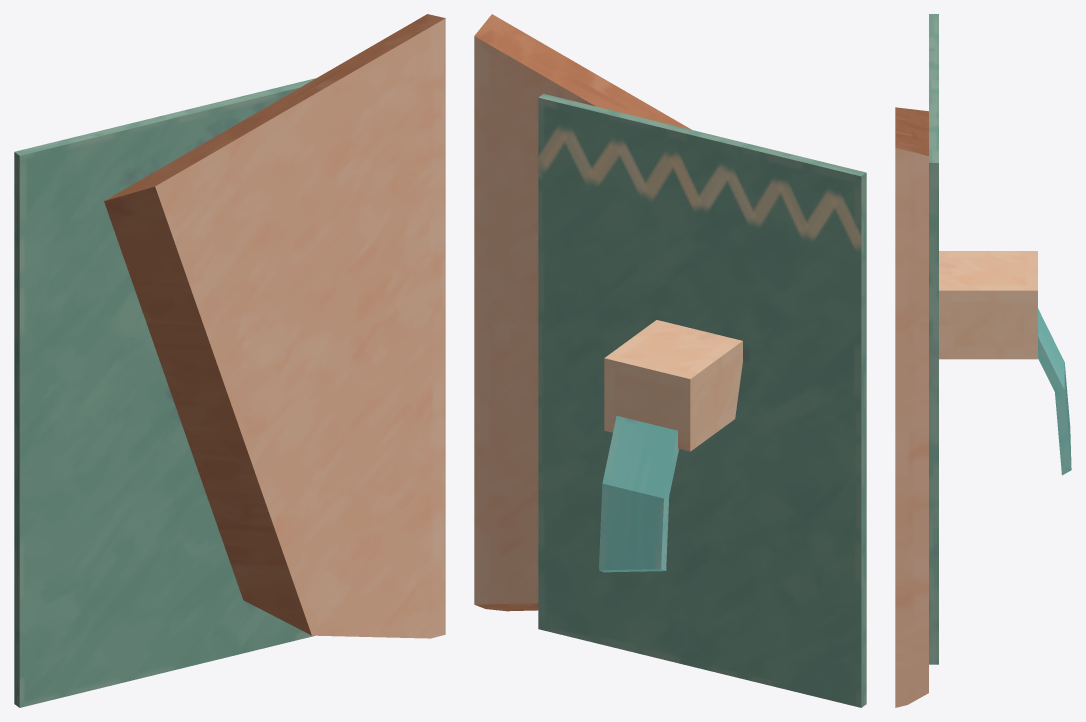
File: spout_s02.fbx
3 renders of one model, left to right at view 1: azimuth 30°, elevation 25°; view 2: azimuth 150°, elevation 25°; view 3: azimuth 270°, elevation 25°, orthographic. The views are drawn at different scales.
Parts seen in each view (by area): view 1: spout_s02; view 2: spout_s02; view 3: spout_s02.
Part boxes in pixels (left/top/right/bottom): spout_s02: left=14, top=14, right=445, bottom=707; spout_s02: left=474, top=14, right=866, bottom=707; spout_s02: left=895, top=14, right=1071, bottom=707.
Size of the model in its own units: 2.55 by 3.69 by 1.05.
